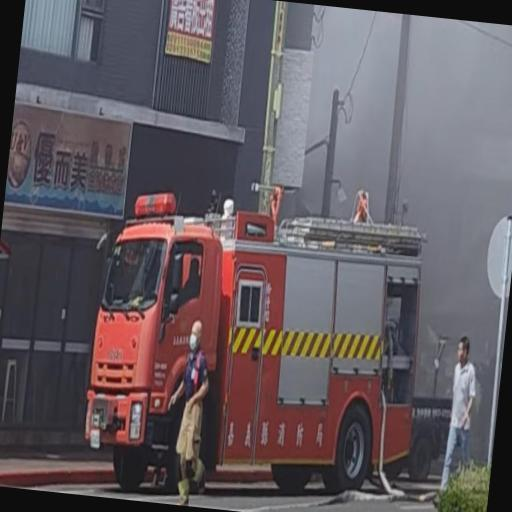fire truck: (85, 193, 424, 492)
